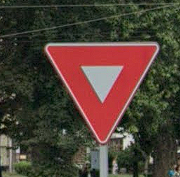cedeaza: (40, 39, 166, 147)
